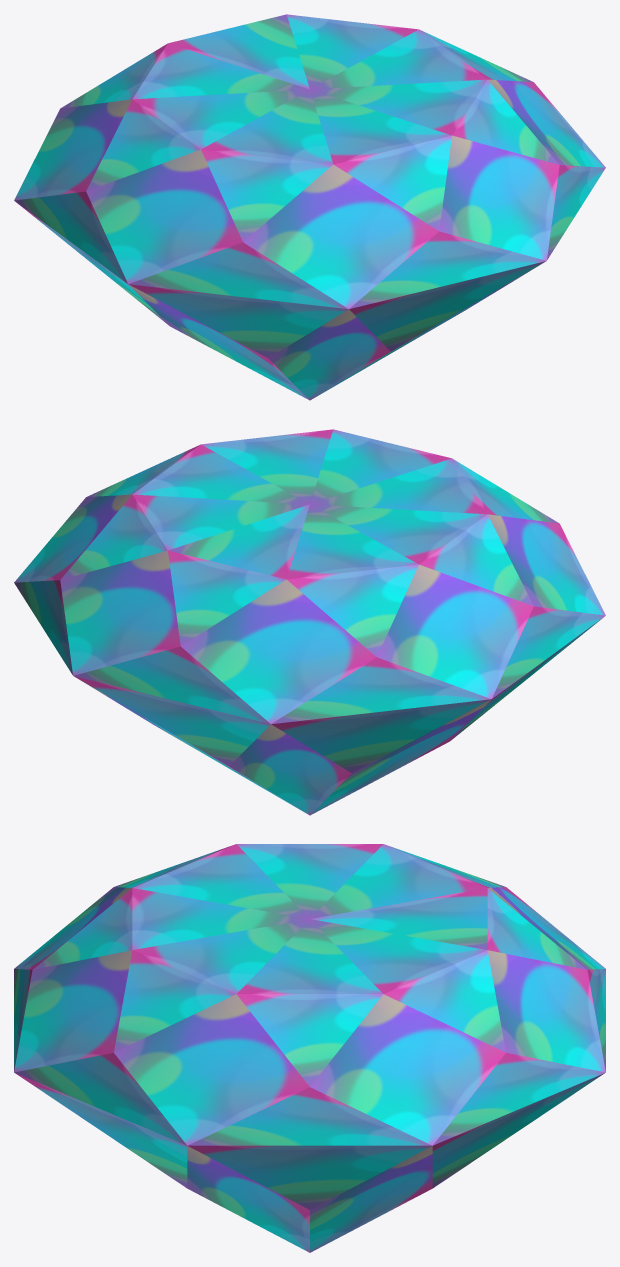
Rendered from gema.obj.
3 views of the same model, one above another, from view 1: azimuth 30°, elevation 25°; view 2: azimuth 150°, elevation 25°; view 3: azimuth 270°, elevation 25° (orthographic). The views are drawn at different scales.
Visible parts, largest first — view 1: Gem; view 2: Gem; view 3: Gem.
Boxes of the visible parts, x1=… form: Gem: x1=14, y1=14, x2=605, y2=400; Gem: x1=14, y1=429, x2=605, y2=815; Gem: x1=14, y1=844, x2=605, y2=1252.
Bounding box in the file's own units: 1.85 × 1.15 × 1.85.
